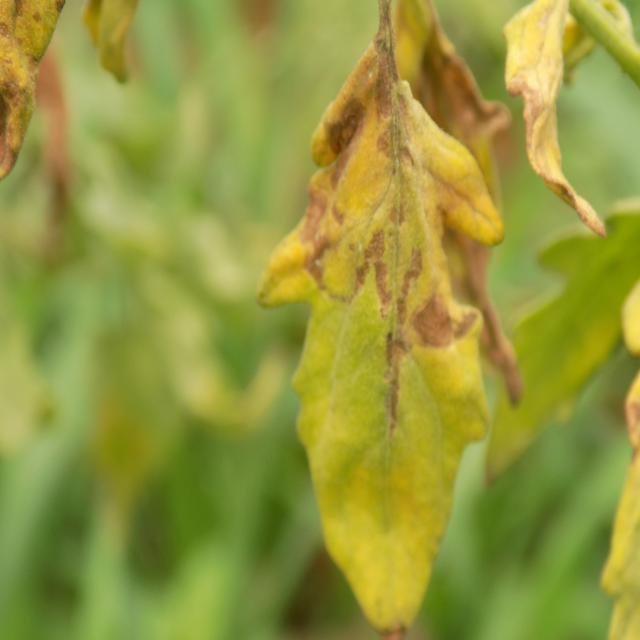tomato_early blight: (251, 17, 505, 640)
